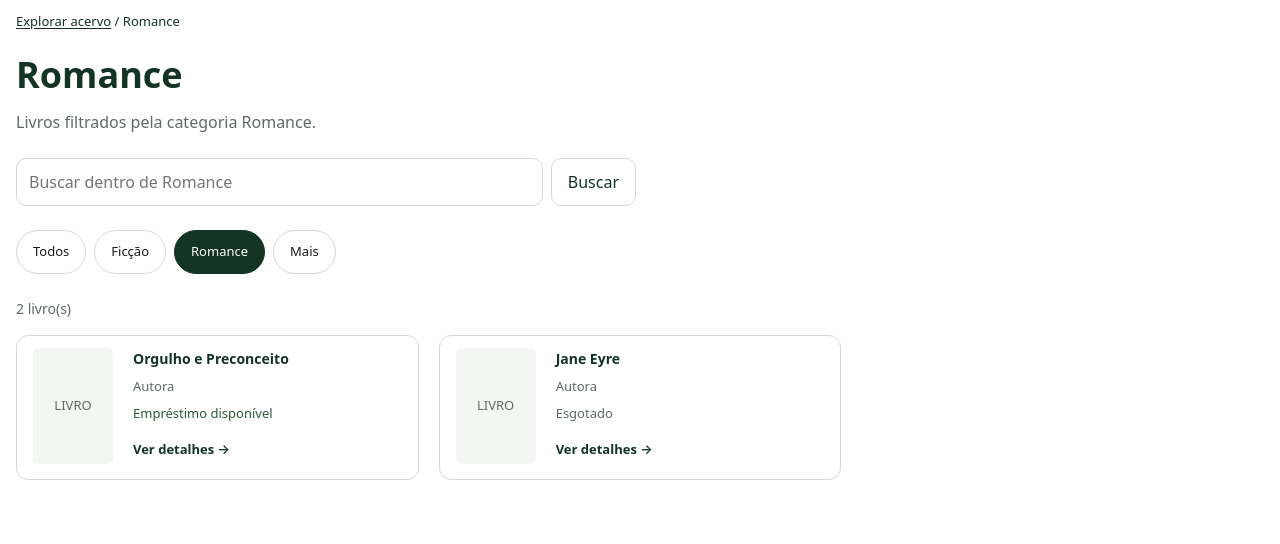
Test: GenreBooksComponent › mantém os destaques e avisa quando a lista completa falha
Step 1. Click the button with class "genre__chip--more" → (304,252), box [273, 230, 336, 274]
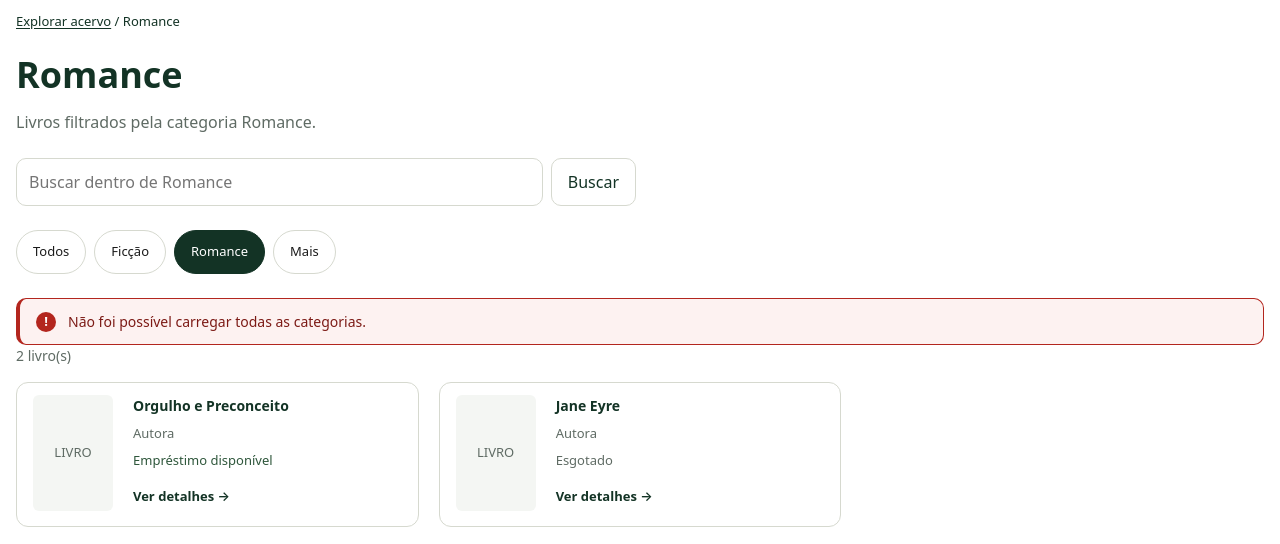
Expected: the text "Não foi possível carregar todas as categorias." is shown, [68, 310, 366, 332]
